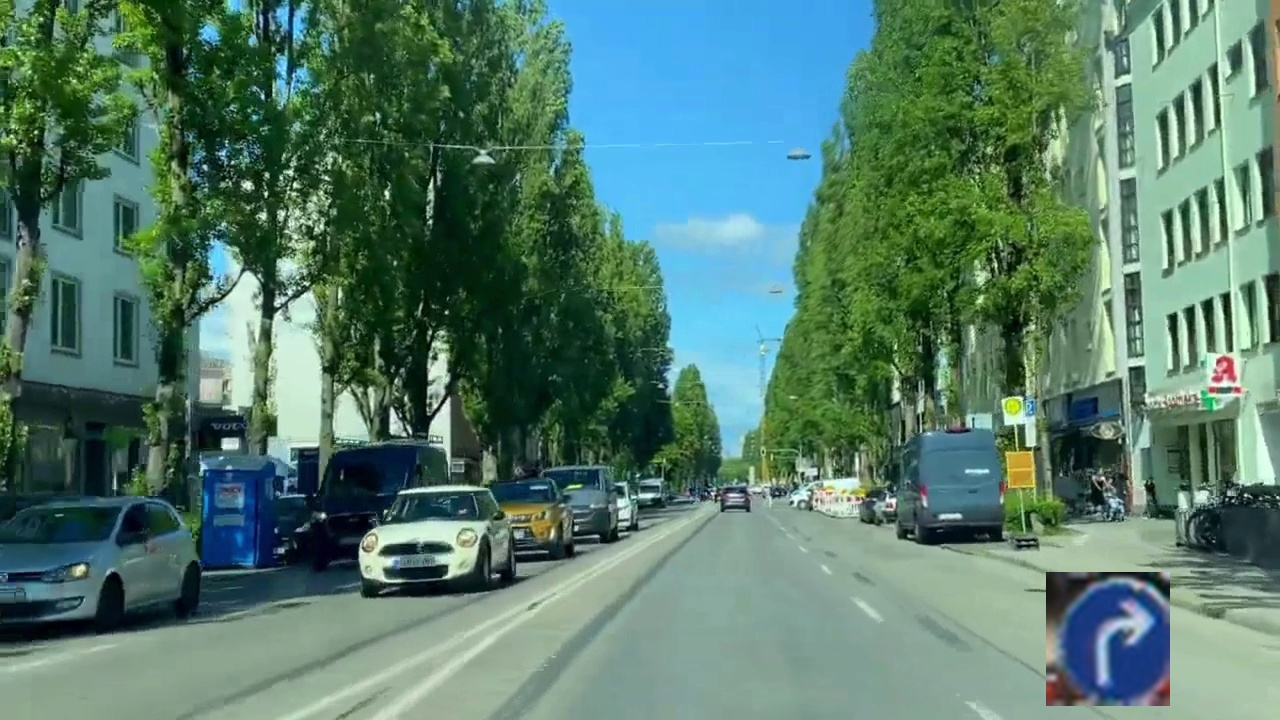Turn right: (1046, 572, 1170, 706)
